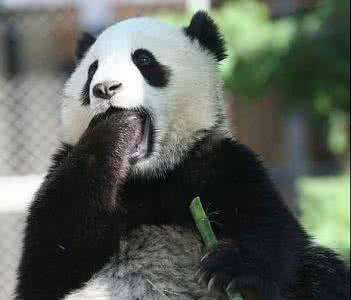panda: (12, 6, 351, 300)
